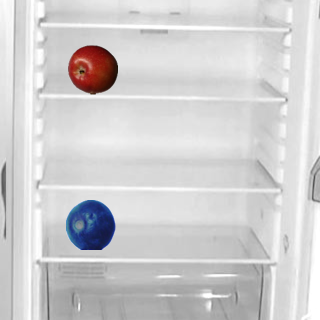Apple Braeburn: (67, 44, 117, 94)
Huckleberry: (65, 199, 115, 249)
